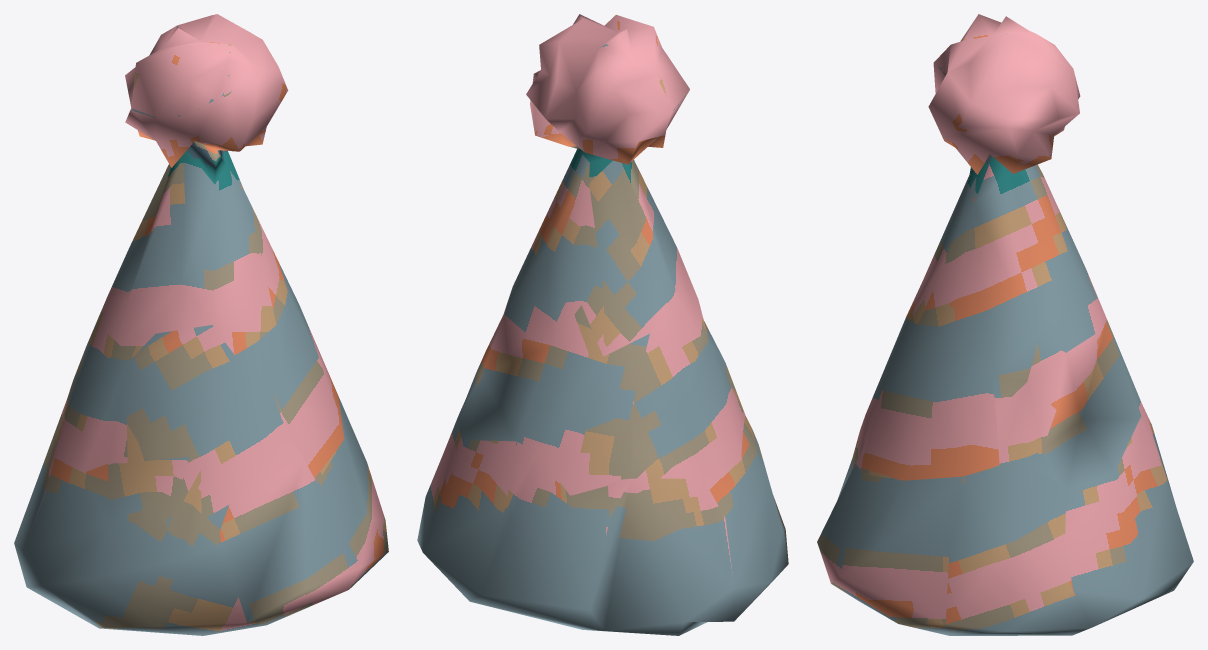
Rendered from hat-party.glb.
3 renders of one model, left to right at view 1: azimuth 30°, elevation 25°; view 2: azimuth 150°, elevation 25°; view 3: azimuth 270°, elevation 25°, orthographic.
Parts seen in each view (by area): view 1: tripo_node_bbdd8ac3-d802-4dbc-b9d4-07db5ce80136; view 2: tripo_node_bbdd8ac3-d802-4dbc-b9d4-07db5ce80136; view 3: tripo_node_bbdd8ac3-d802-4dbc-b9d4-07db5ce80136.
Boxes of the visible parts, bbox=[...] form: tripo_node_bbdd8ac3-d802-4dbc-b9d4-07db5ce80136: bbox=[14, 14, 388, 635]; tripo_node_bbdd8ac3-d802-4dbc-b9d4-07db5ce80136: bbox=[417, 14, 788, 635]; tripo_node_bbdd8ac3-d802-4dbc-b9d4-07db5ce80136: bbox=[817, 14, 1193, 635].
Size of the model in its own units: 0.6176 by 0.998 by 0.6101.
1 material, 1 textured.
